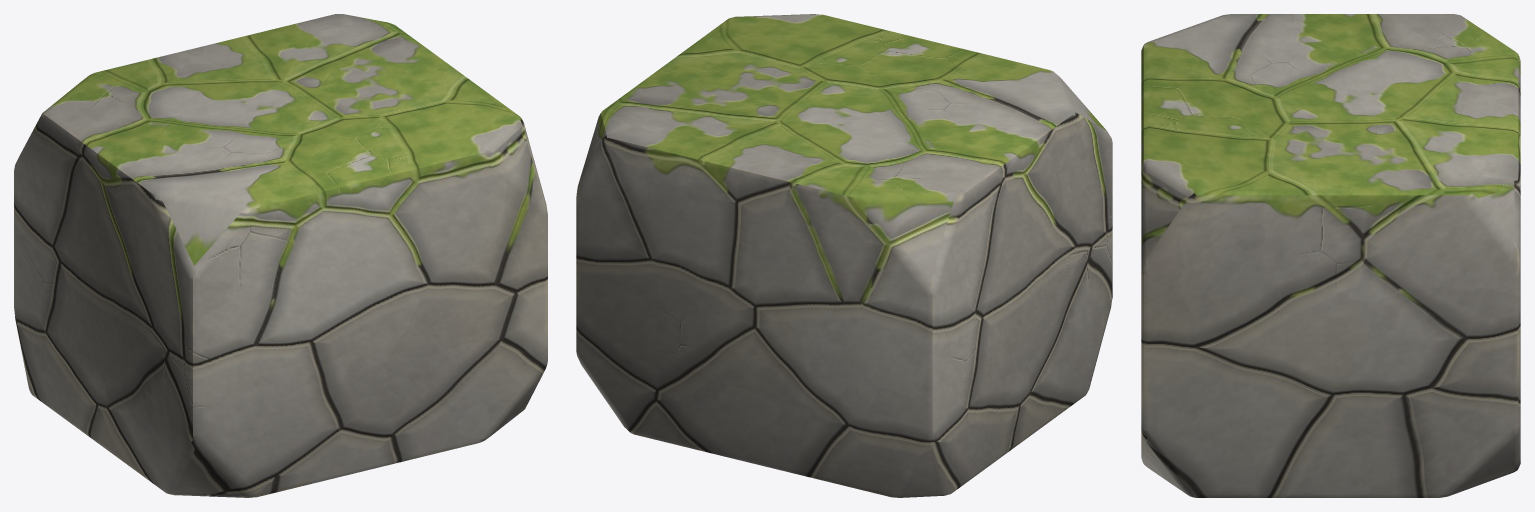
Rendered from boulder.glb.
3 views of the same model, side by side, from view 1: azimuth 30°, elevation 25°; view 2: azimuth 150°, elevation 25°; view 3: azimuth 270°, elevation 25° (orthographic). The views are drawn at different scales.
Parts seen in each view (by area): view 1: BoulderStone; view 2: BoulderStone; view 3: BoulderStone.
Part boxes in pixels (bbox=[...]): BoulderStone: bbox=[14, 14, 547, 497]; BoulderStone: bbox=[576, 14, 1112, 497]; BoulderStone: bbox=[1141, 14, 1520, 497].
Size of the model in its own units: 1.5 by 1.17 by 1.31.
1 material, 1 textured.
